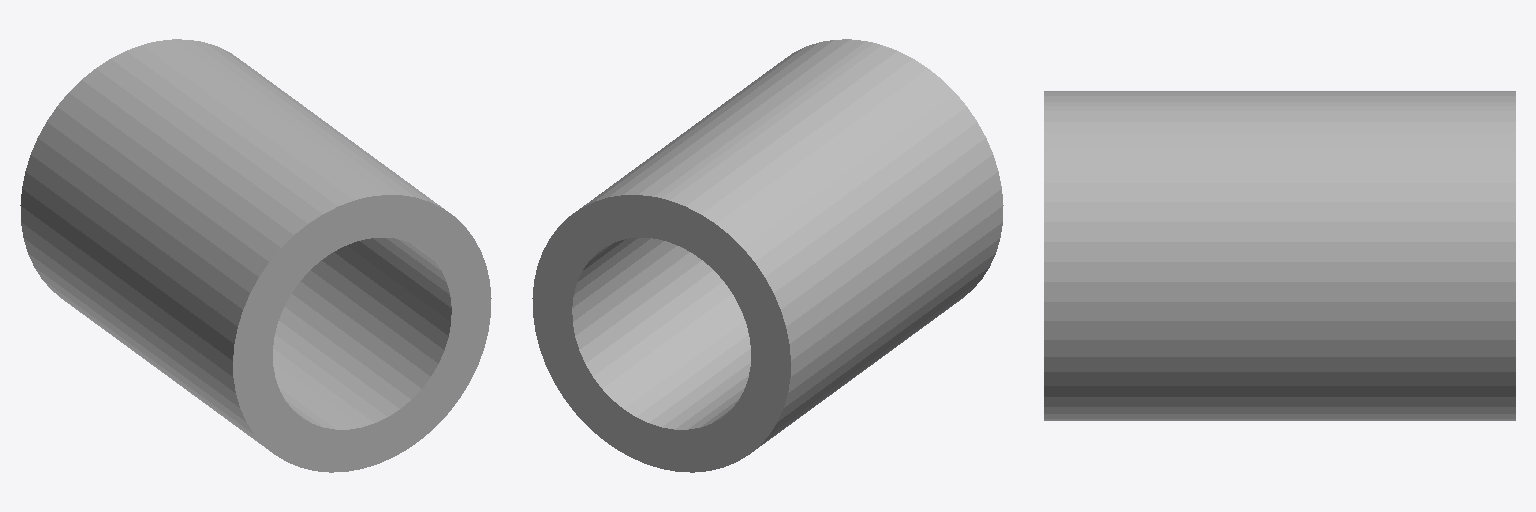
robot.urdf — root:
<?xml version='1.0' encoding='utf-8'?>
<robot name="root">
  <link name="link_001">
    <visual>
      <origin xyz="0 0 0" rpy="0 0 0" />
      <geometry>
        <mesh filename="7c99b74c44007832debb92adfdd7ef5bdd87fb331e588cab908913b46eedeb0d_scale_001.stl" scale="1.0000E+00 1.0000E+00 1.0000E+00" />
      </geometry>
      <material name="">
        <color rgba="7.50E-01 7.50E-01 7.50E-01 1" />
      </material>
    </visual>
    <collision>
      <origin xyz="0 0 0" rpy="0 0 0" />
      <geometry>
        <mesh filename="7c99b74c44007832debb92adfdd7ef5bdd87fb331e588cab908913b46eedeb0d_scale_001.stl" scale="1.0000E+00 1.0000E+00 1.0000E+00" />
      </geometry>
    </collision>
  </link>
</robot>

--- What the picture shows (computed from the rendered views, not written in the file) ---
Views: 3 orthographic renders of the robot side by side, from view 1: azimuth 30°, elevation 25°; view 2: azimuth 150°, elevation 25°; view 3: azimuth 270°, elevation 25°.
Model root with 1 links and 0 joints (none), rooted at link_001, posed every joint at zero.
Visible links, largest first — view 1: link_001; view 2: link_001; view 3: link_001.
Link boxes in pixels (<box>): link_001: <box>20,39,491,472</box>; link_001: <box>532,39,1003,472</box>; link_001: <box>1044,91,1515,420</box>.
Size in the robot's own frame: 0.0843 by 0.12 by 0.0843 metres.
1 mesh visuals loaded from 1 distinct referenced files (1 binary STL).
